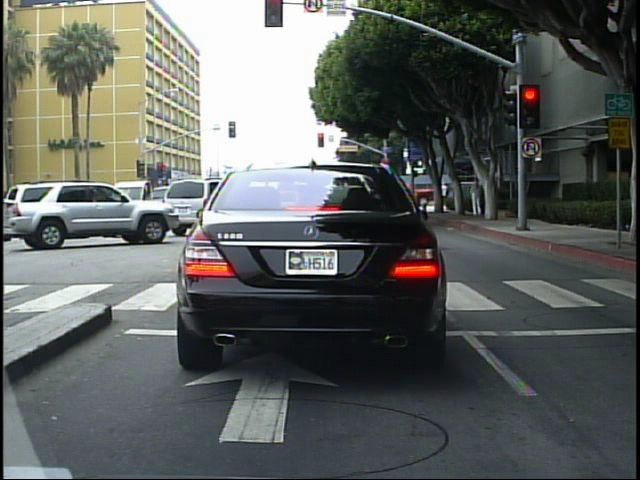person: (632, 166, 638, 274), (469, 179, 484, 217), (437, 179, 451, 213), (636, 167, 638, 273)
